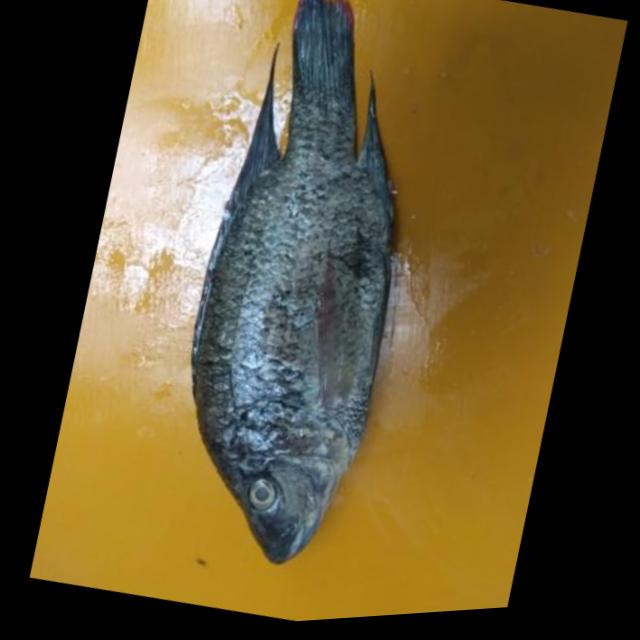Tilapia: (129, 0, 461, 593)
